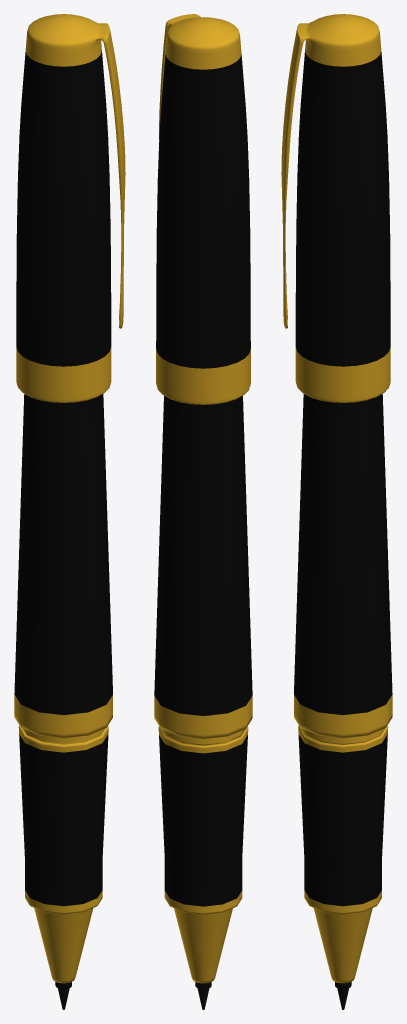
The model's file is pen.obj.
3 views of the same model, side by side, from view 1: azimuth 90°, elevation 25°; view 2: azimuth 210°, elevation 25°; view 3: azimuth 270°, elevation 25° (orthographic).
Visible parts, largest first — view 1: pen_base_Cylinder, pen_lid_Cylinder.001; view 2: pen_base_Cylinder, pen_lid_Cylinder.001; view 3: pen_base_Cylinder, pen_lid_Cylinder.001.
Part boxes in pixels (box(x1,y1,x2,y2)): pen_base_Cylinder: box(14, 394, 112, 1009); pen_lid_Cylinder.001: box(16, 14, 125, 402); pen_base_Cylinder: box(154, 396, 252, 1009); pen_lid_Cylinder.001: box(156, 14, 250, 404); pen_base_Cylinder: box(294, 394, 392, 1009); pen_lid_Cylinder.001: box(281, 14, 390, 402).
Bounding box in the file's own units: 0.00308 × 0.0342 × 0.00347.
